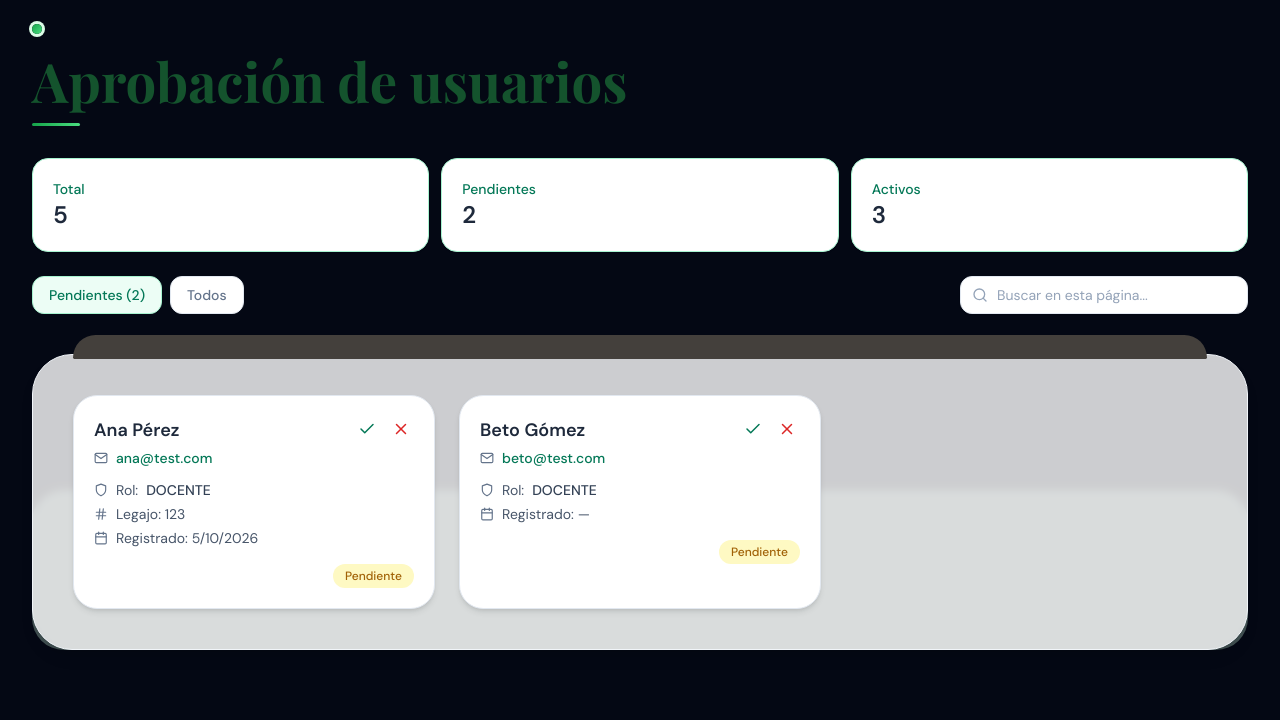
AprobacionUsuarios Page › avisa si el usuario ya no está pendiente
Click the button titled "Aprobar usuario" in the row of "Pérez" at (367, 429), box [354,416,380,442]
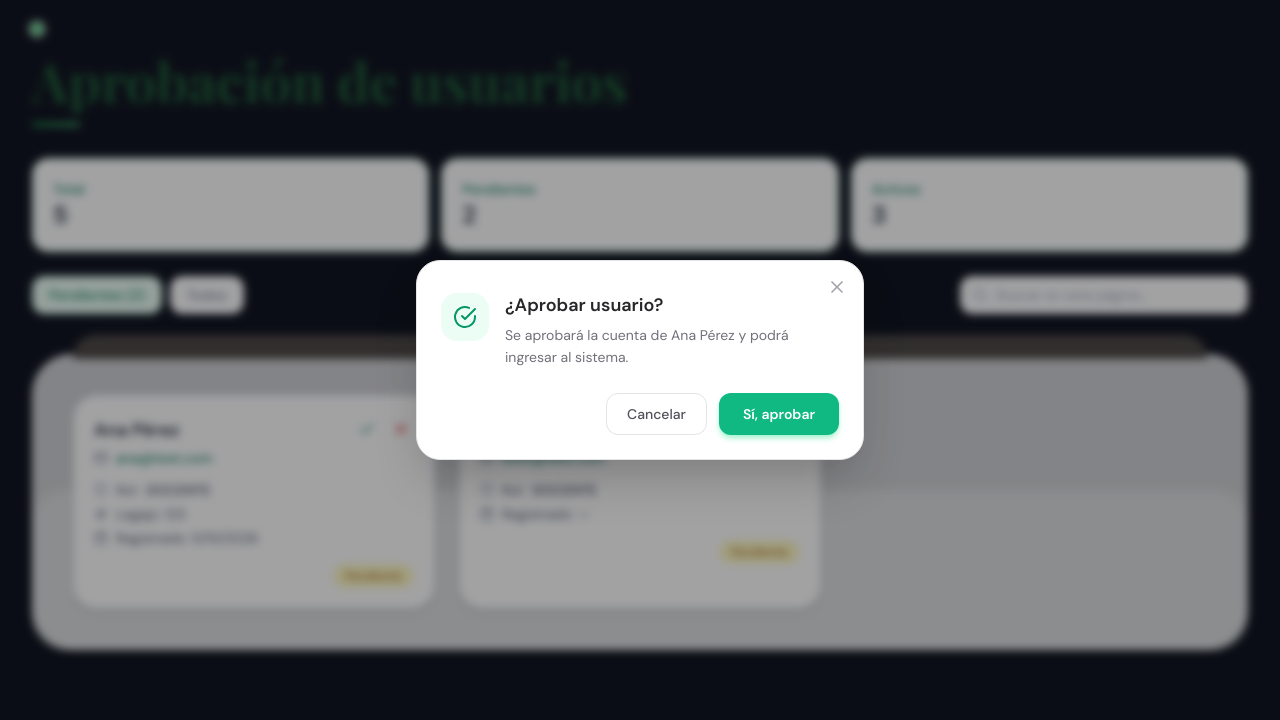
Click the button "Sí, aprobar" at (779, 414), box [719,393,839,435]
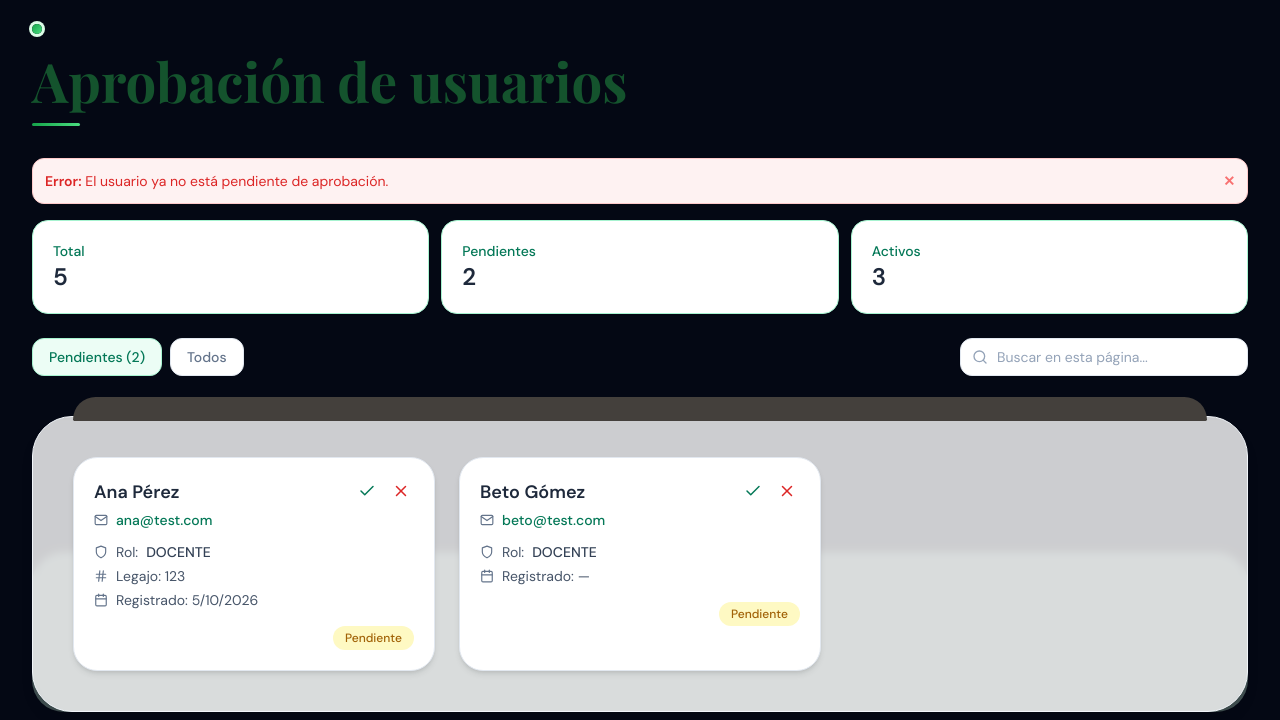
Check: the text "El usuario ya no está pendiente de aprobación." is shown, box [85,172,388,190]
